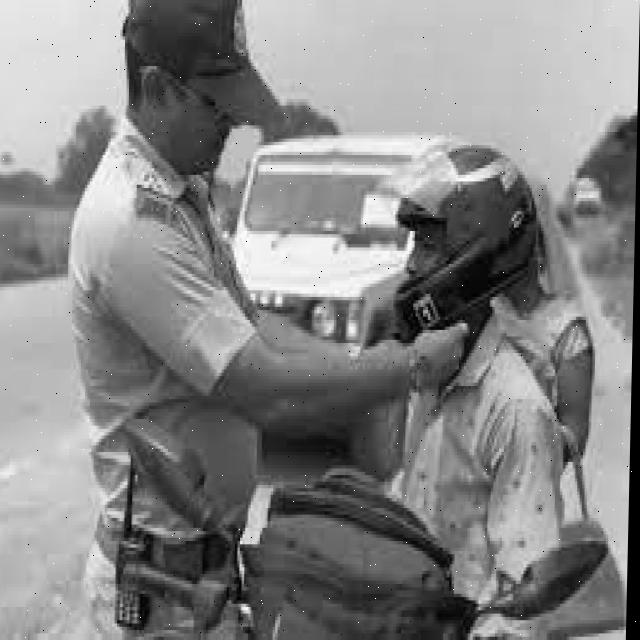Helmet: (394, 146, 540, 336)
